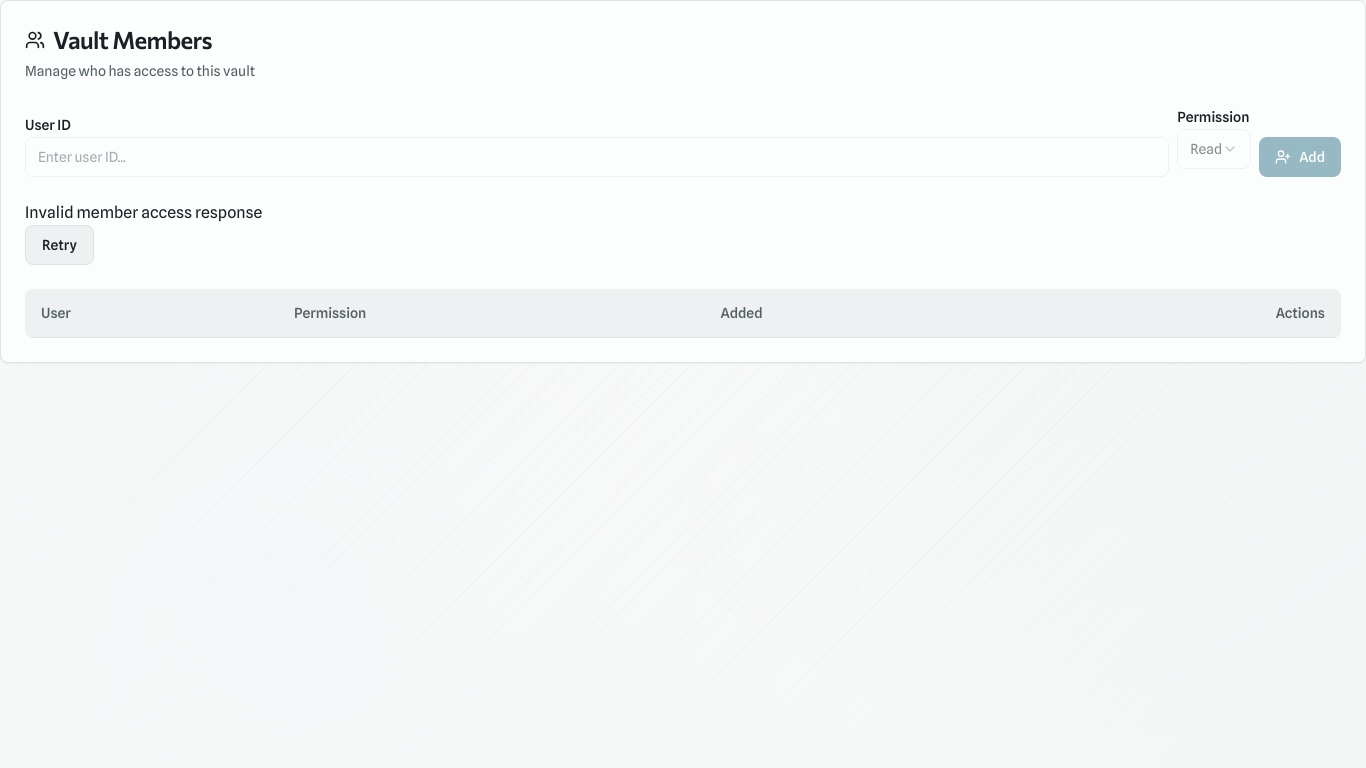
access panel read ownership and outcome controls › keeps member response missing members unknown, blocks mutations, and recovers through Retry
Expected: the button "Retry" is shown, [25,225,94,265]
Type "81" into the field named "User ID to add as vault member". click: {"x": 597, "y": 157}
box: [25,137,1169,177]
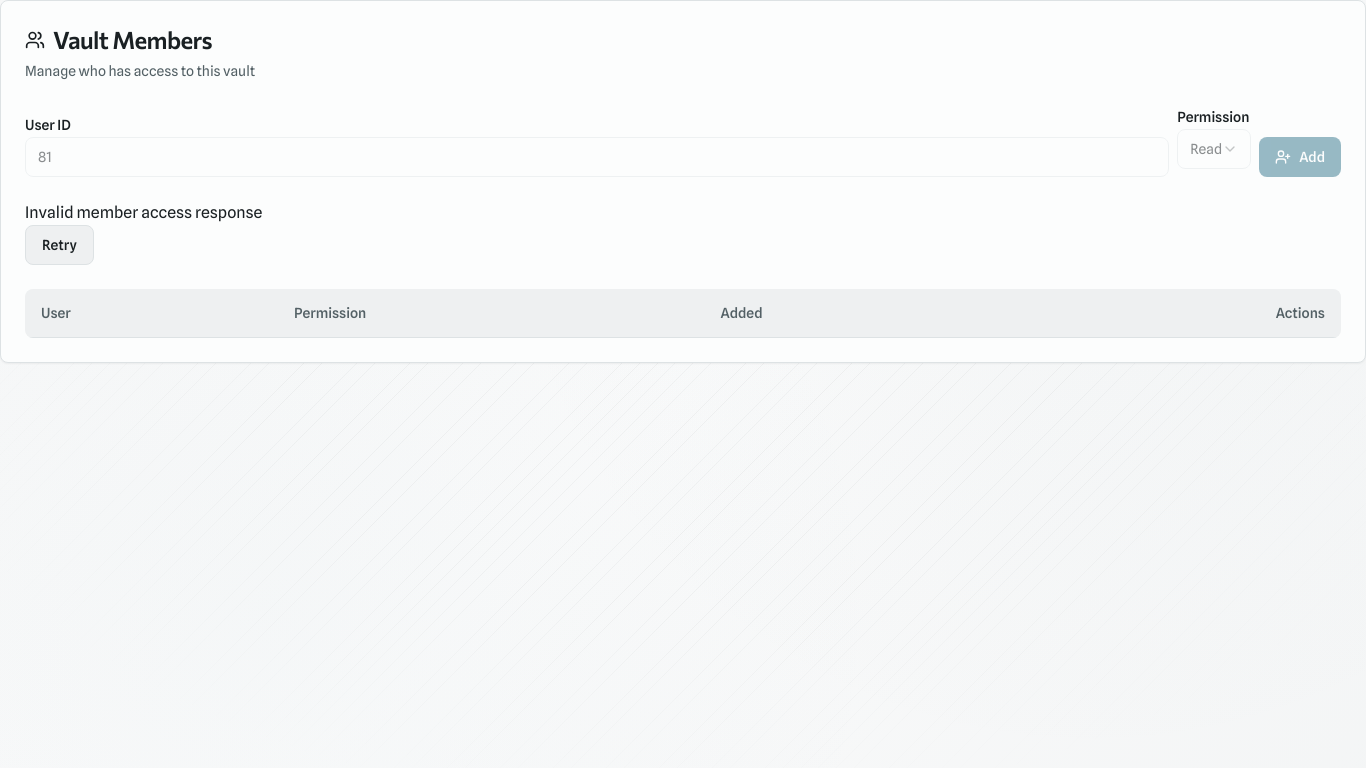
Expected: the button "Add" is disabled, [1259,137,1341,177]
Submit the form, box [25,105,1341,177]
Click the button "Retry". click: {"x": 59, "y": 245}
box: [25,225,94,265]
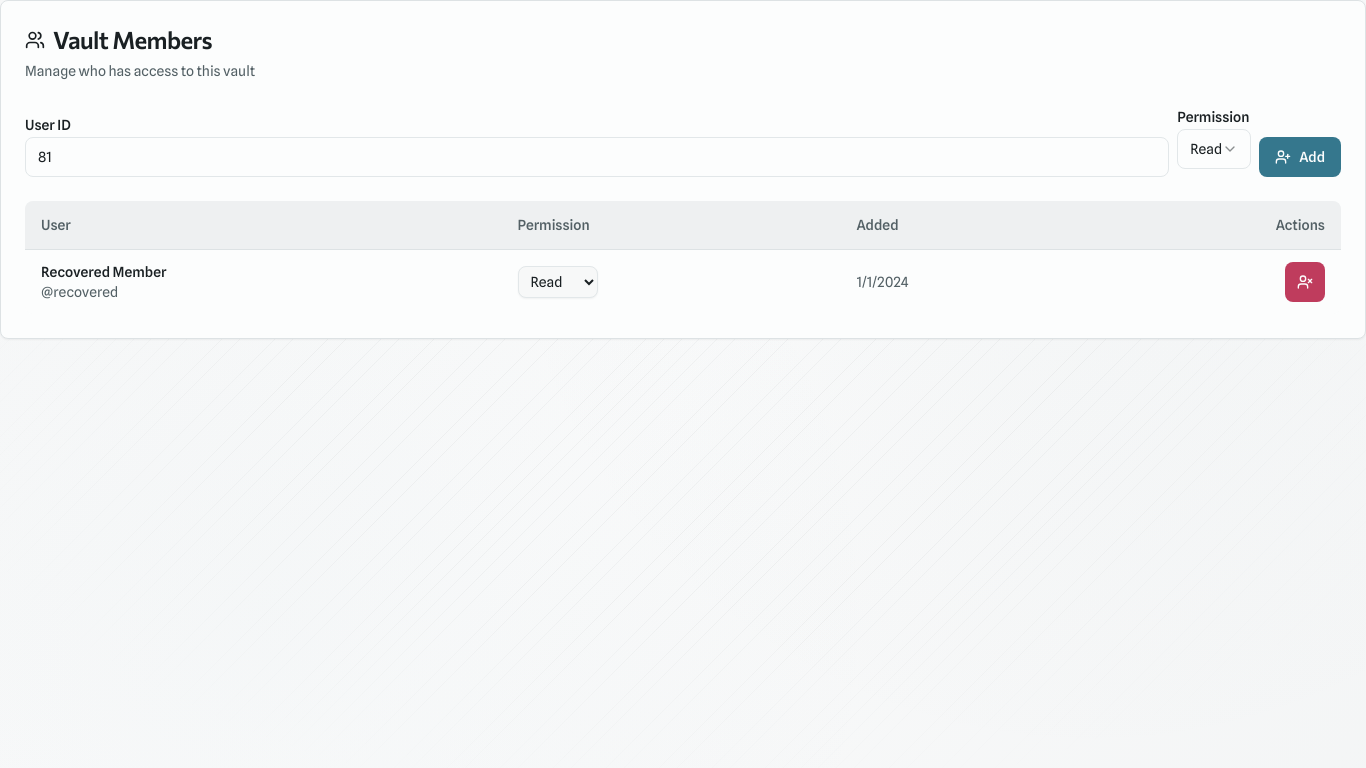
Result: the text "Recovered Member" is shown at [41,264,166,280]
